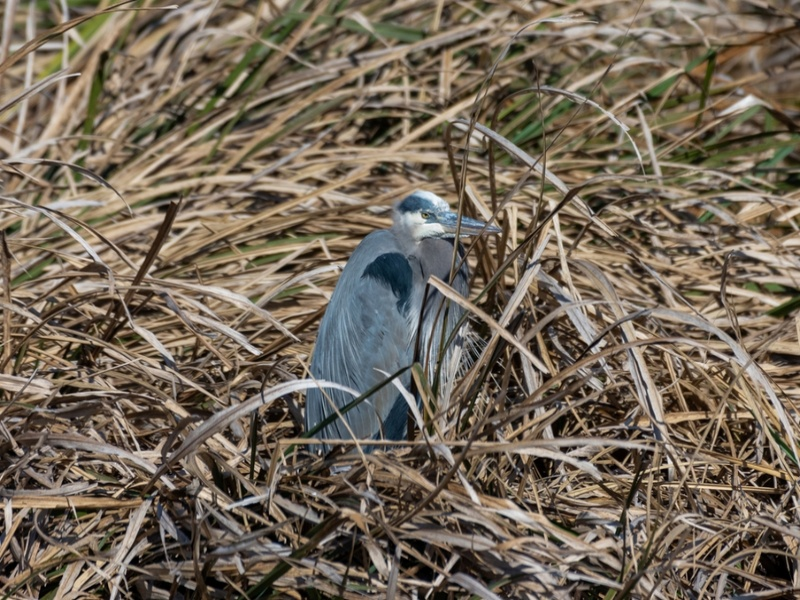heron: (301, 189, 503, 457)
